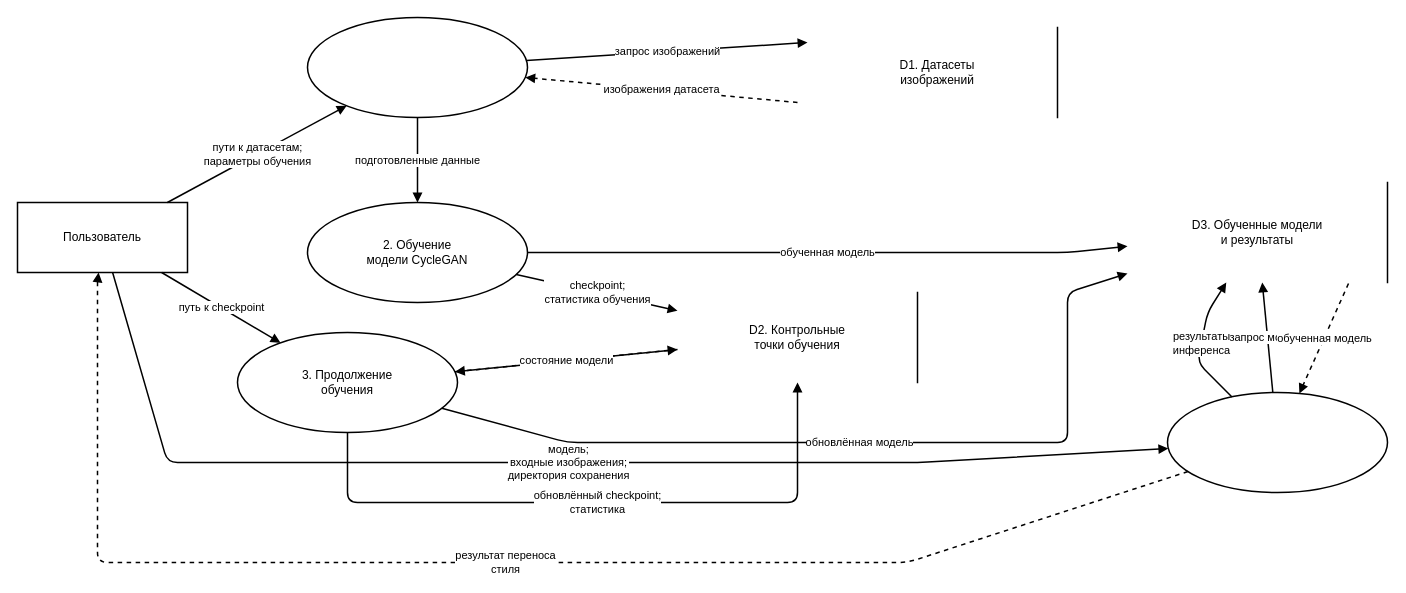
This 1406x593 diagram has some shape labels left out. Each missing label, with the centre of its shape:
"1. Подготовка данных" belongs at point (417, 67).
"4. Выполнение инференса" belongs at point (1277, 442).
